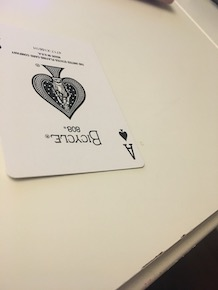AceOfSpades: (1, 12, 148, 179)
